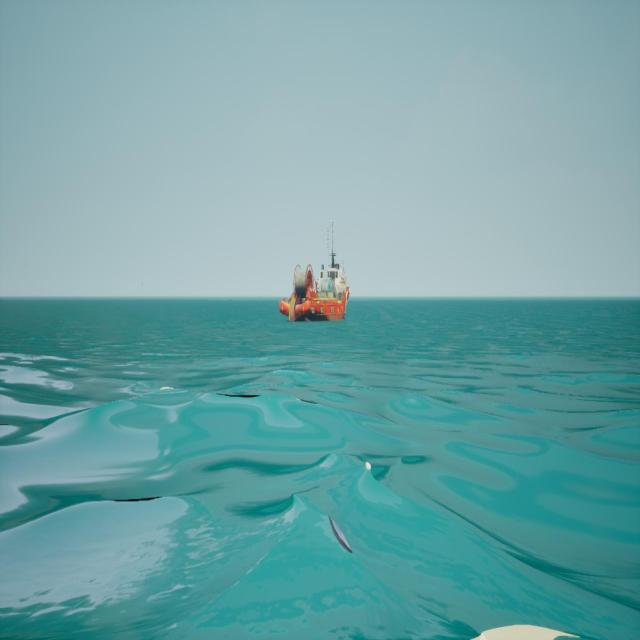tug boat: (282, 220, 353, 325)
